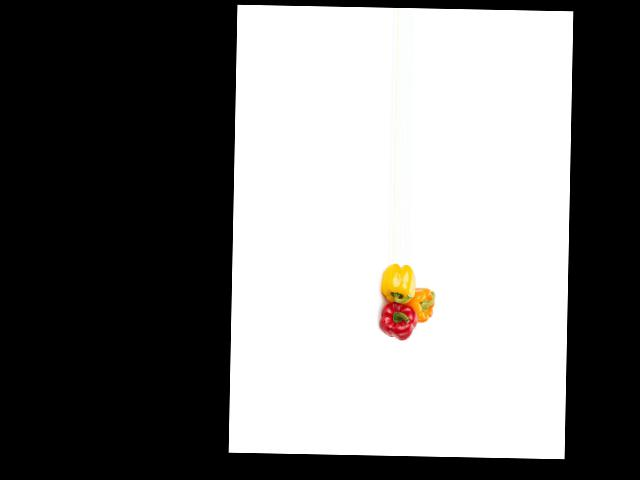bell_pepper: (377, 263, 417, 301)
